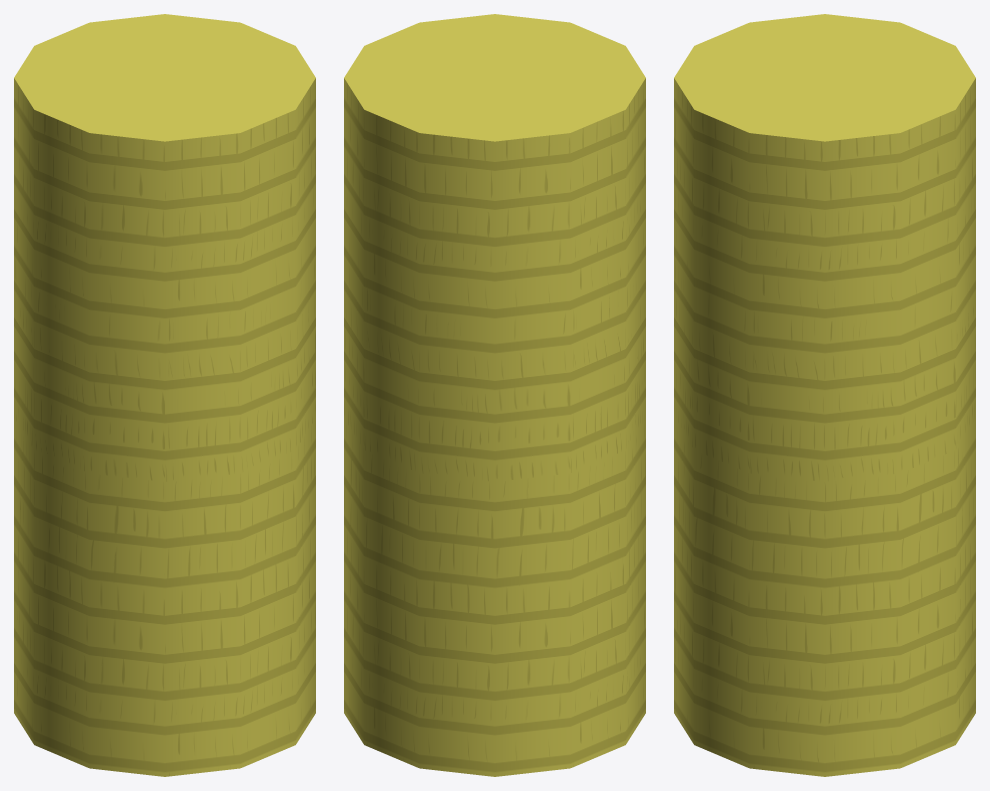
File: CoinStackSmall.fbx
3 renders of one model, left to right at view 1: azimuth 30°, elevation 25°; view 2: azimuth 150°, elevation 25°; view 3: azimuth 270°, elevation 25°, orthographic.
Visible parts, largest first — view 1: Cylinder018; view 2: Cylinder018; view 3: Cylinder018.
Boxes of the visible parts, <box> form: Cylinder018: <box>14,14,315,776</box>; Cylinder018: <box>344,14,645,776</box>; Cylinder018: <box>674,14,975,776</box>.
Bounding box in the file's own units: 8.61 × 8.61 × 20.
Materials: 2 (2 with a texture image).
